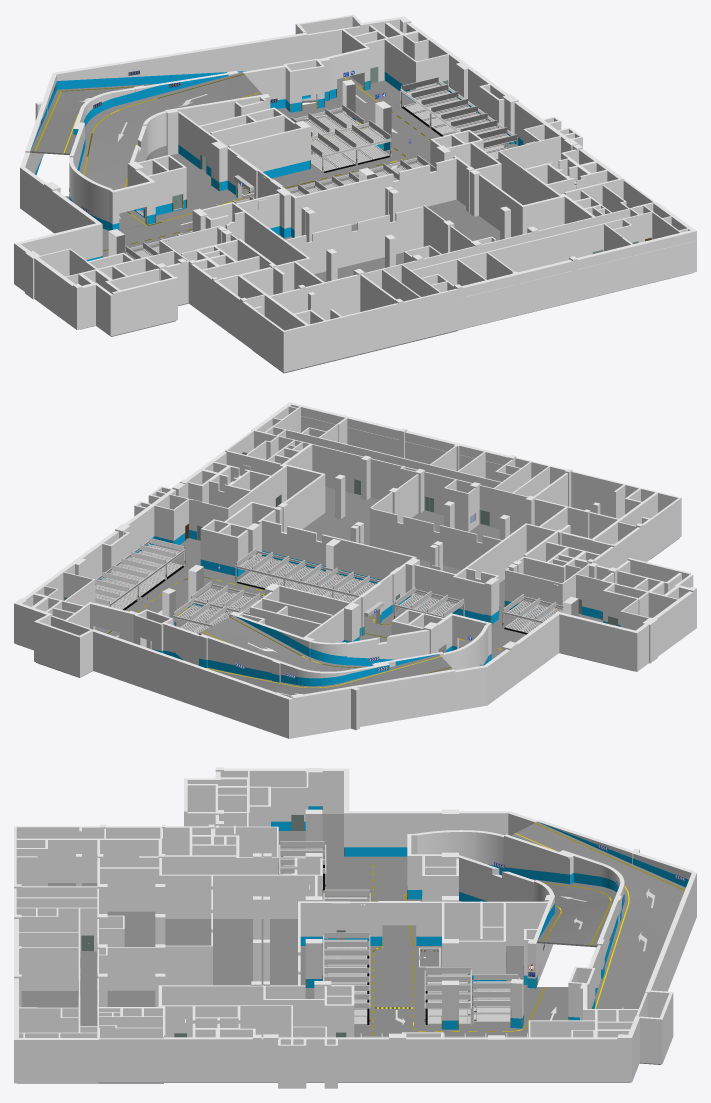
3 renders of one model, top to bottom at view 1: azimuth 30°, elevation 25°; view 2: azimuth 150°, elevation 25°; view 3: azimuth 270°, elevation 25°, orthographic. The views are drawn at different scales.
Visible parts, largest first — view 1: 墙, 楼板, 柱, 立体停车位, 车行道, 踢脚线, 路面标; view 2: 墙, 立体停车位, 柱, 楼板, 车行道, 踢脚线, 钢防火门, 路面标; view 3: 墙, 楼板, 柱, 车行道, 立体停车位, 踢脚线, 路面标, 钢防火门.
Part boxes in pixels (bbox=[...]): 墙: bbox=[14, 14, 696, 372]; 楼板: bbox=[65, 76, 693, 373]; 柱: bbox=[25, 18, 582, 329]; 立体停车位: bbox=[125, 77, 518, 259]; 车行道: bbox=[30, 72, 316, 220]; 踢脚线: bbox=[25, 71, 523, 299]; 路面标: bbox=[34, 74, 430, 251]; 墙: bbox=[14, 402, 696, 738]; 立体停车位: bbox=[94, 538, 563, 634]; 柱: bbox=[16, 428, 696, 721]; 楼板: bbox=[36, 486, 679, 677]; 车行道: bbox=[198, 615, 452, 697]; 踢脚线: bbox=[99, 530, 657, 730]; 钢防火门: bbox=[64, 479, 618, 626]; 路面标: bbox=[107, 577, 502, 687]; 墙: bbox=[14, 768, 696, 1088]; 楼板: bbox=[17, 814, 660, 1083]; 柱: bbox=[14, 767, 639, 1082]; 车行道: bbox=[511, 821, 685, 1008]; 立体停车位: bbox=[278, 841, 528, 1037]; 踢脚线: bbox=[271, 806, 688, 1082]; 路面标: bbox=[372, 823, 684, 1035]; 钢防火门: bbox=[78, 814, 523, 1037].
Bounding box in the file's own units: 77.2 × 6.07 × 80.29.
129 materials, 1 textured.
